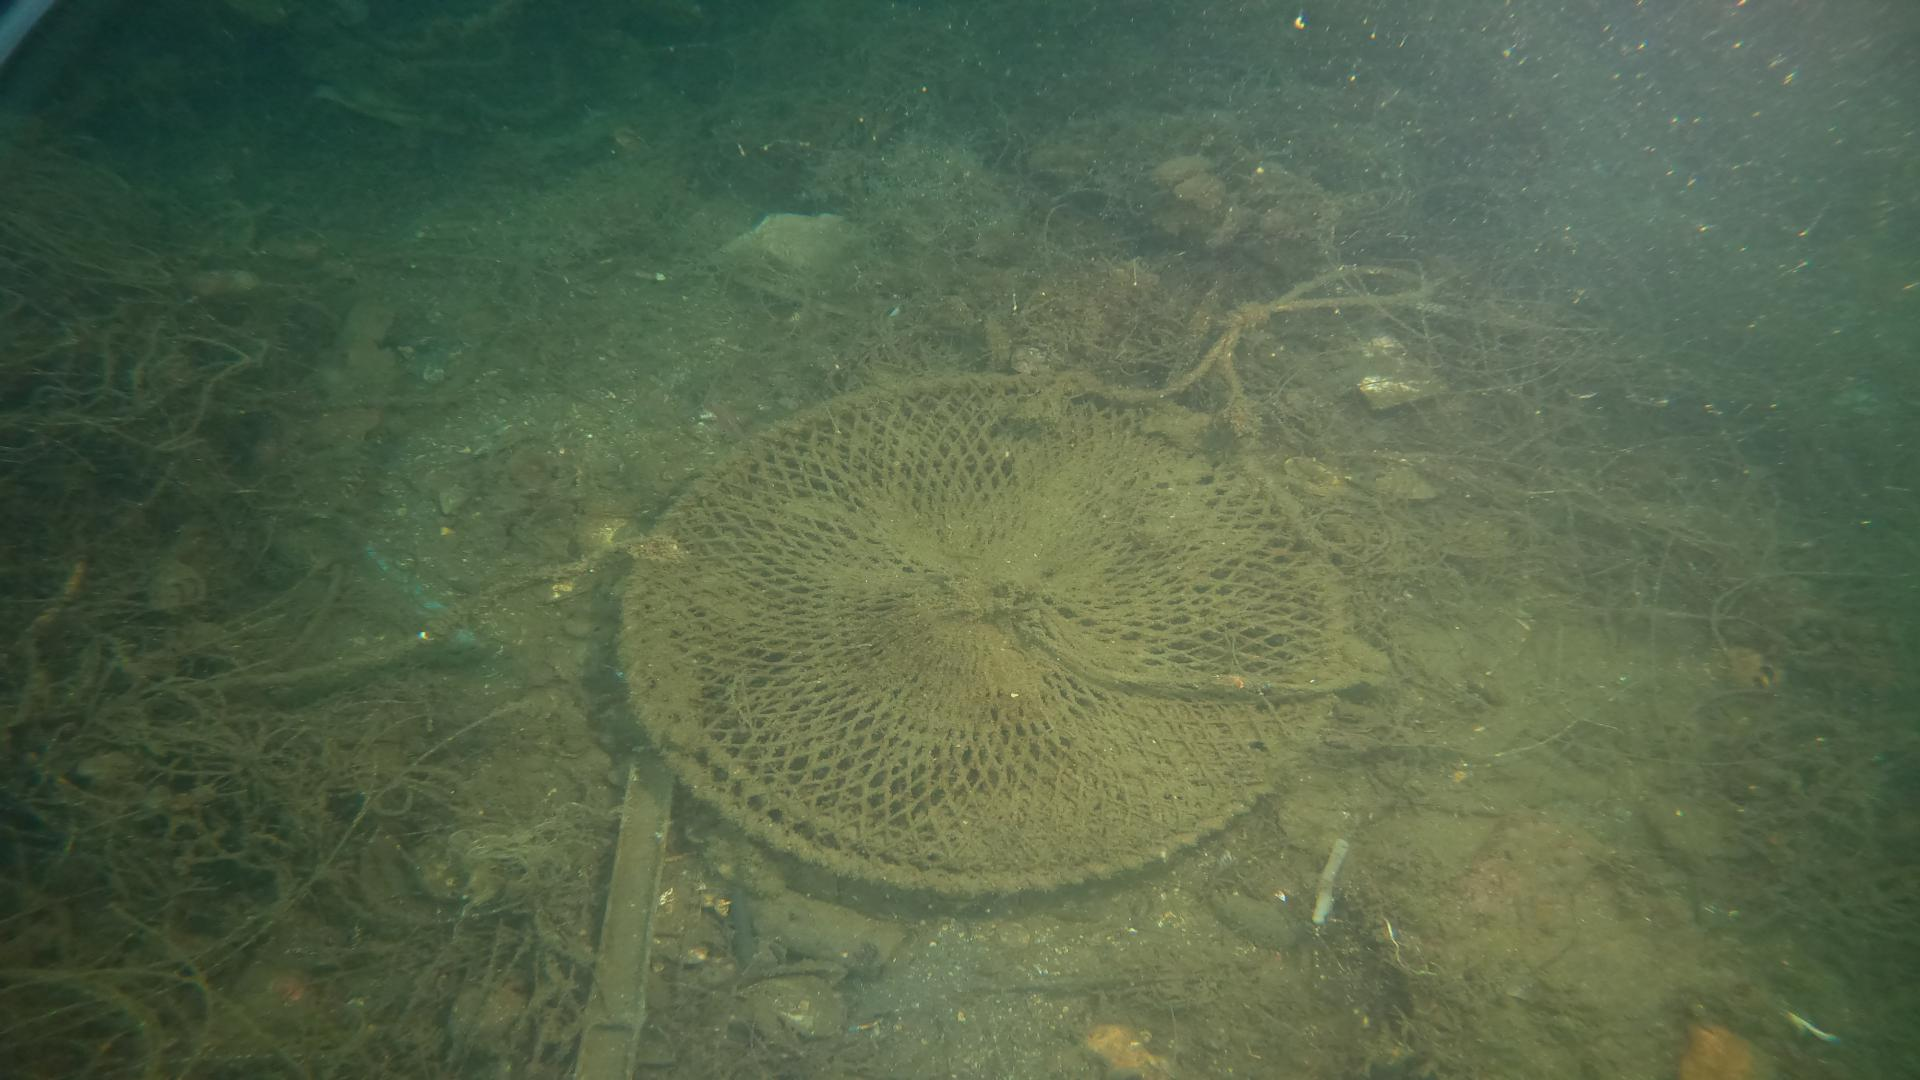bundle of ropes: (1155, 239, 1461, 438)
circular fish trap: (604, 355, 1362, 909)
